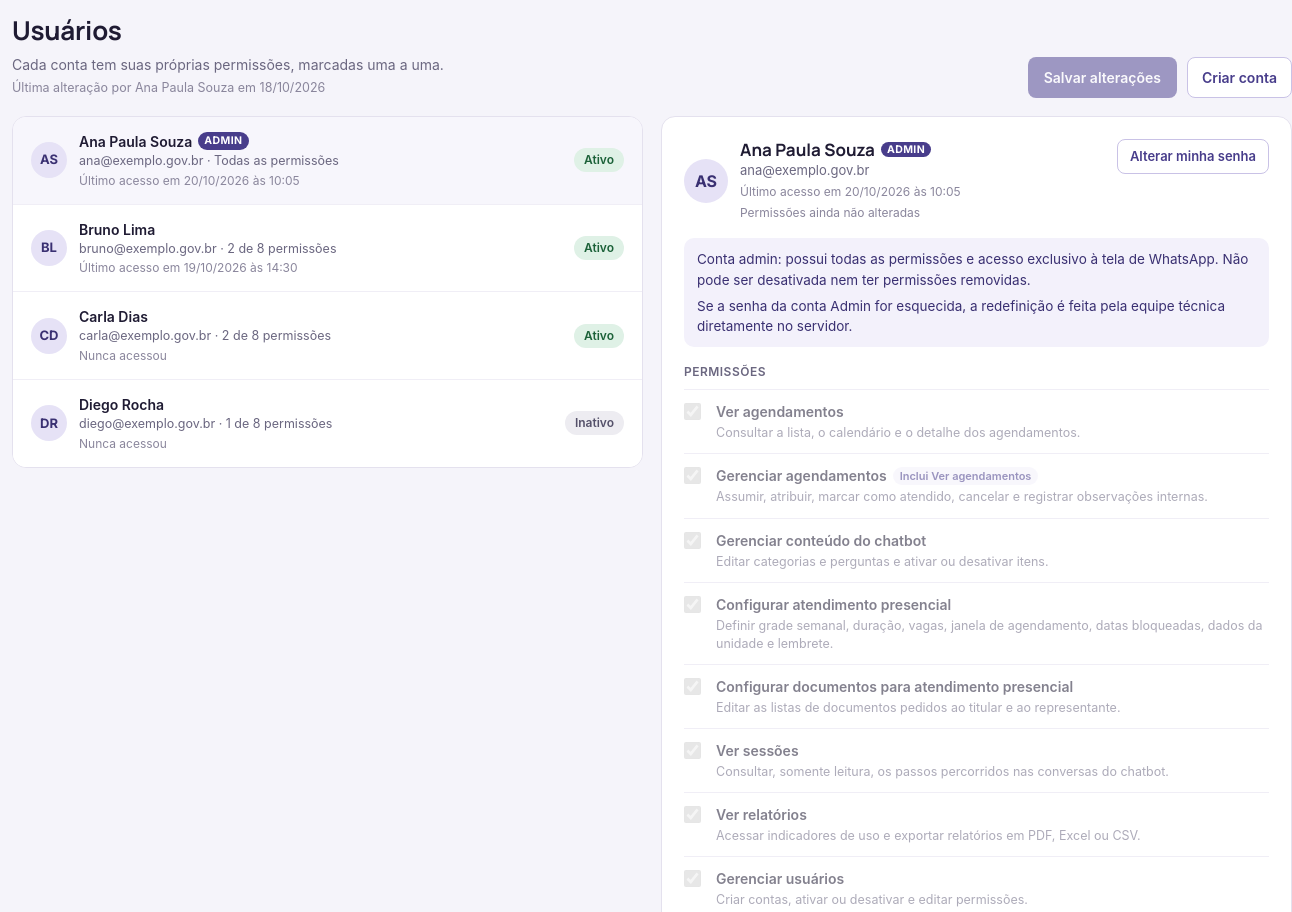
Test case: UsersPage salvar em lote › tira da contagem a mudança desfeita
The image size is (1292, 912).
Expected: the list named "Contas" is shown, [12,116,643,468]
Step 1. Click the button "Carla Dias" → (328, 336), box [13,292,642,380]
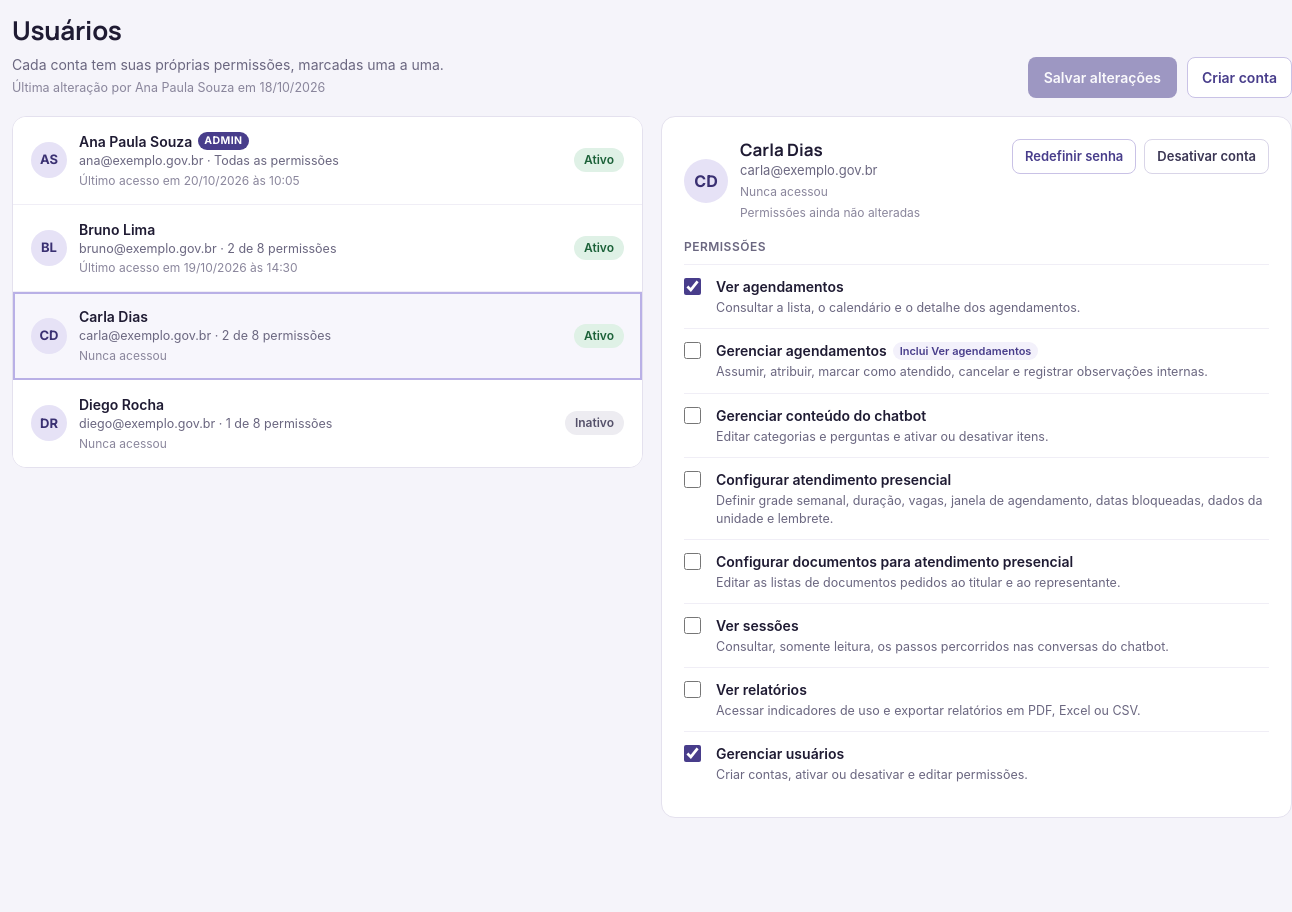
Step 2. Click the checkbox labelled "Ver relatórios" → (692, 690), box [684,681,701,698]
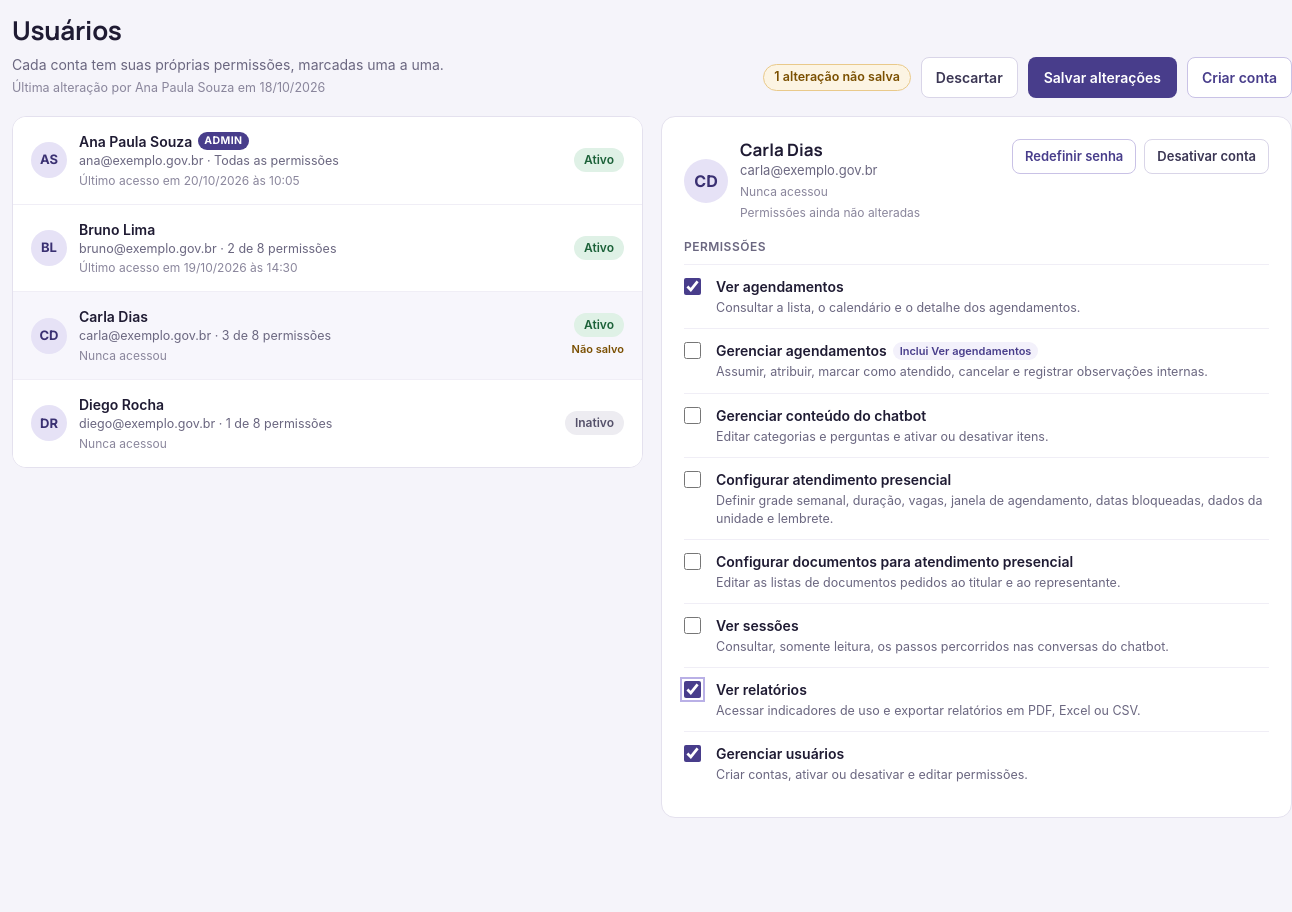
Step 3. Click the 6th checkbox → (692, 626), box [684,617,701,634]
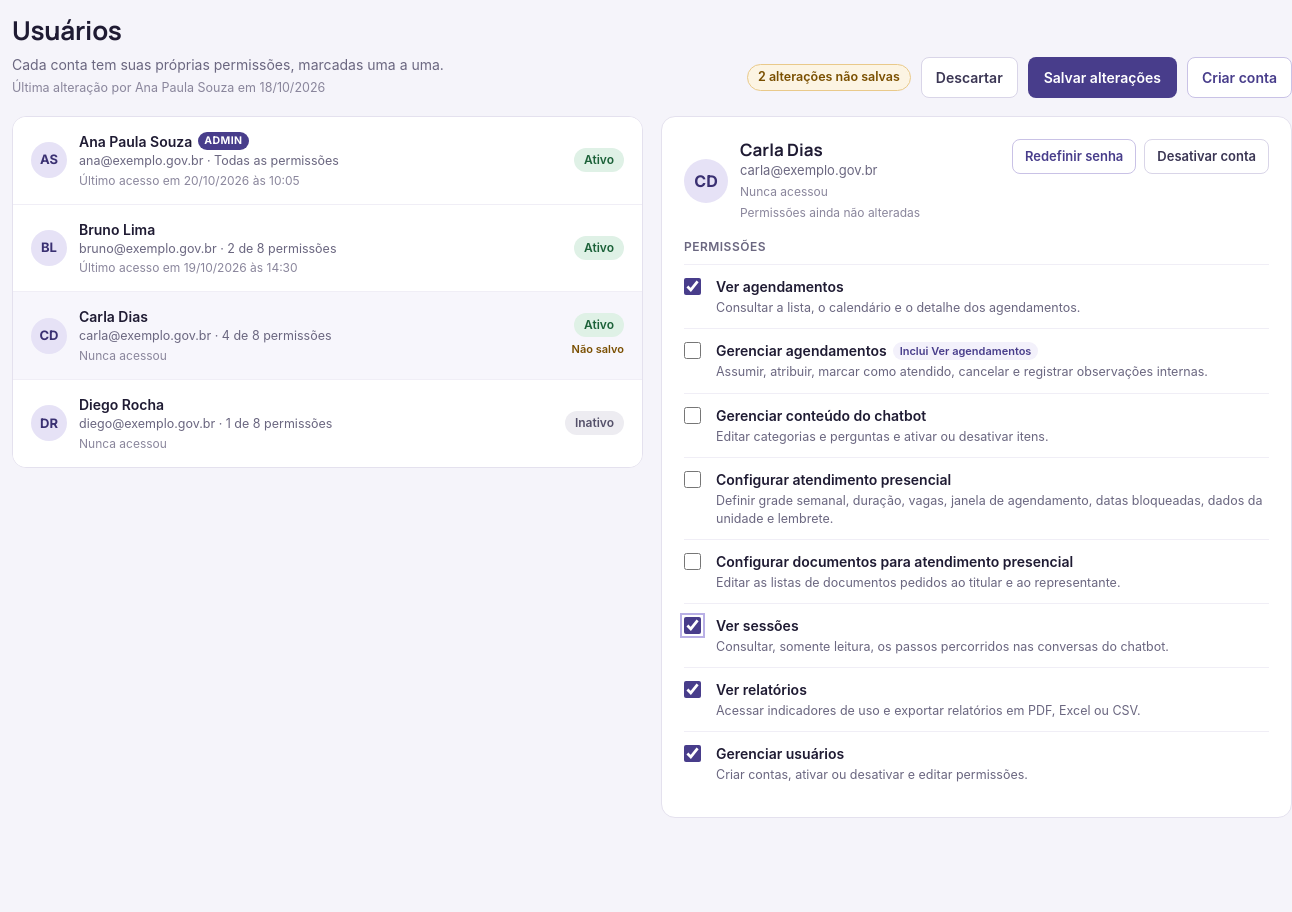
Step 4. Click the checkbox labelled "Ver relatórios" → (692, 690), box [684,681,701,698]
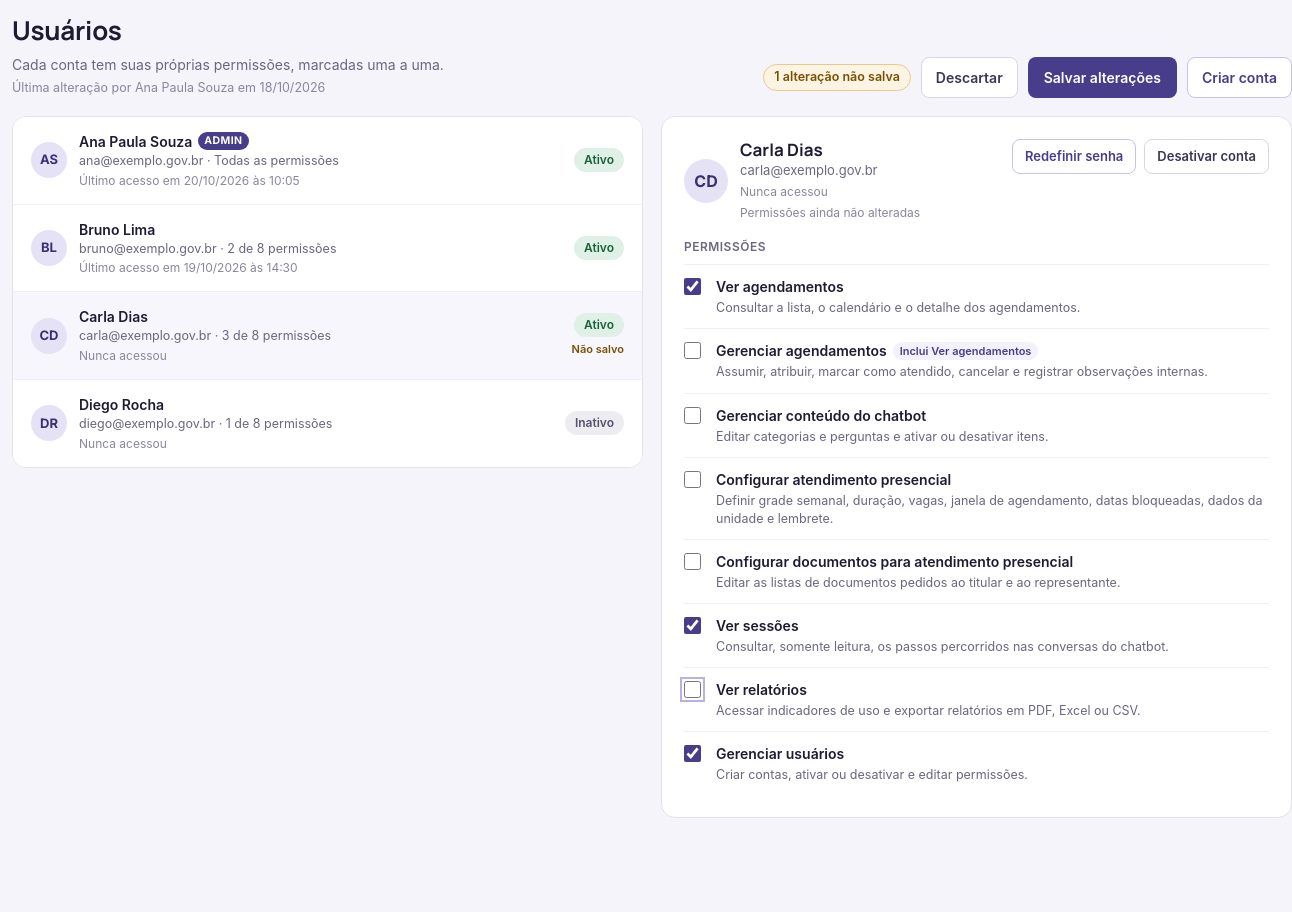
Expected: the button "1 alteração não salva" is shown, [763,64,911,91]
Step 5. Click the 6th checkbox → (692, 626), box [684,617,701,634]
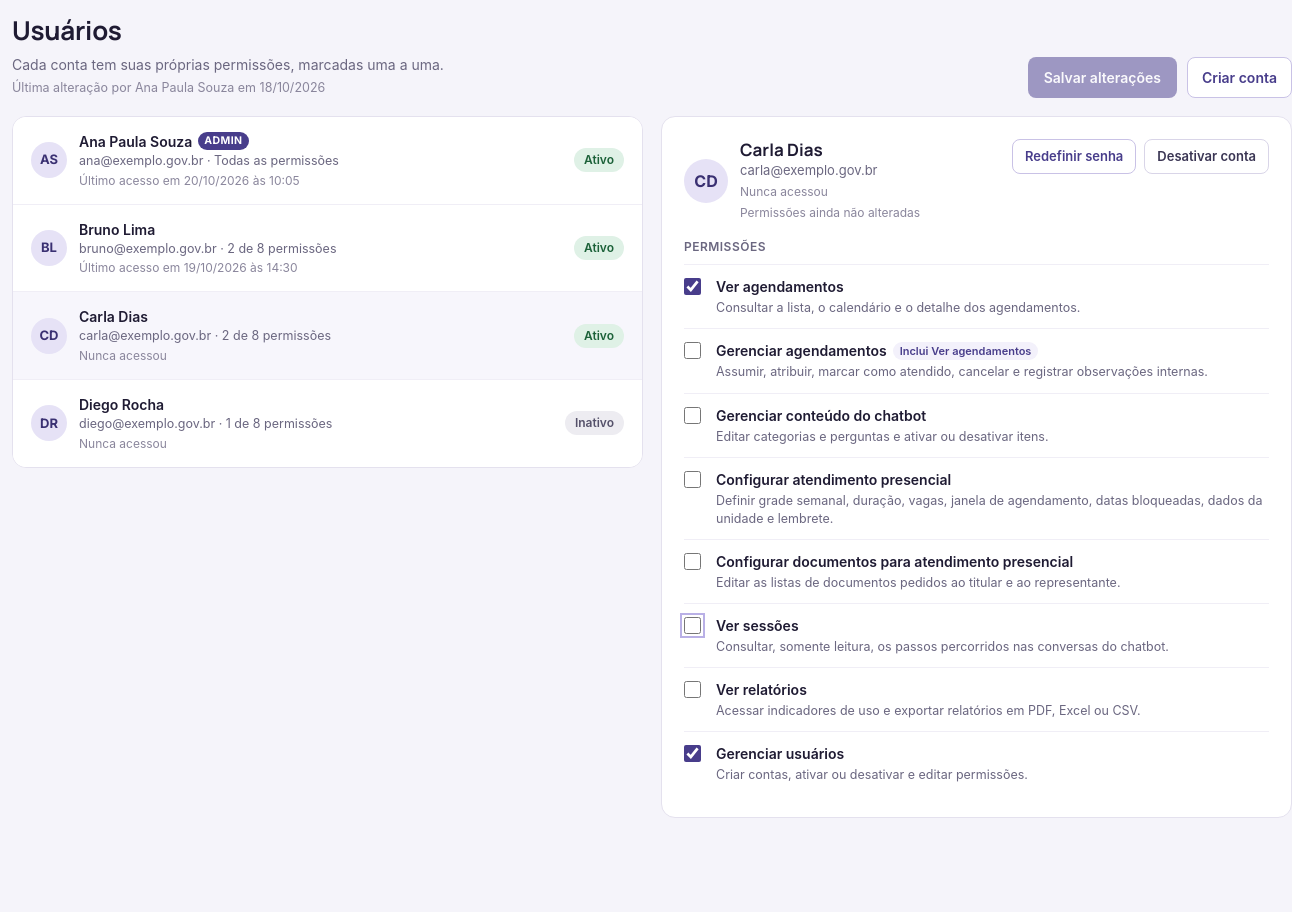
Expected: the button "não salva" is gone
Expected: the button "Carla Dias" no longer shows "Não salvo", [13,292,642,380]
